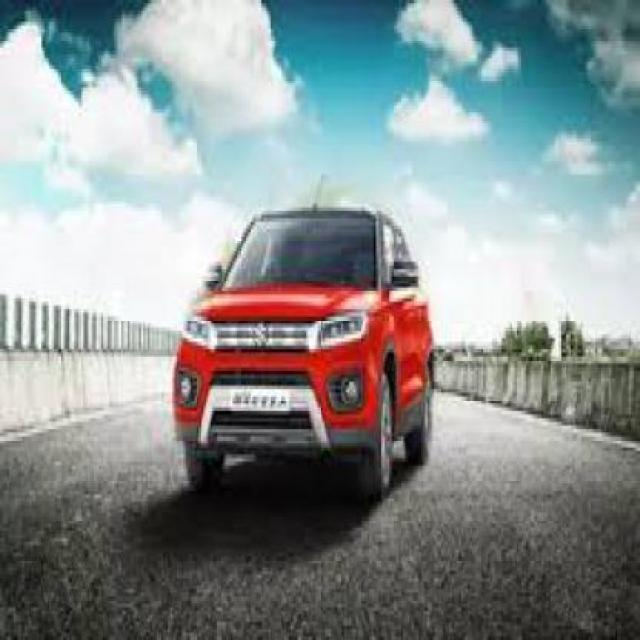vehicle: (168, 171, 438, 504)
